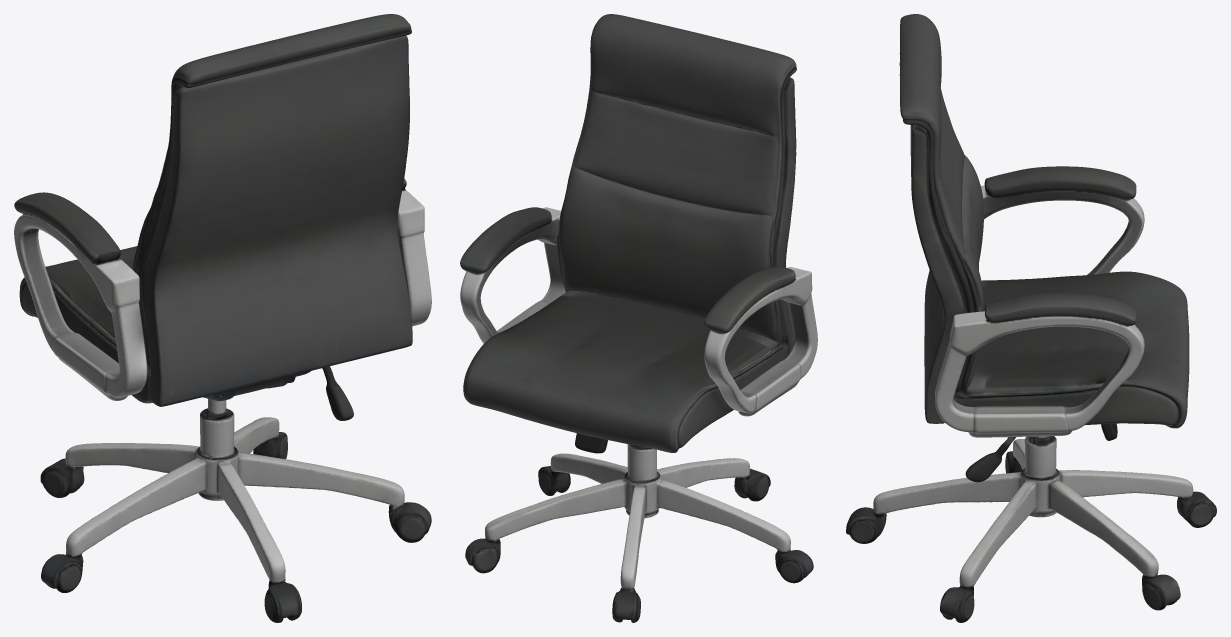
The model's file is modern_office_chair_padded_28.glb.
The picture shows the model from 3 angles, left to right: view 1: azimuth 30°, elevation 25°; view 2: azimuth 150°, elevation 25°; view 3: azimuth 270°, elevation 25°; orthographic projection. The views are drawn at different scales.
Parts seen in each view (by area): view 1: tripo_node_9673e271-81b5-4707-9eda-ee34c4ddf5fa; view 2: tripo_node_9673e271-81b5-4707-9eda-ee34c4ddf5fa; view 3: tripo_node_9673e271-81b5-4707-9eda-ee34c4ddf5fa.
Part boxes in pixels (<box>): tripo_node_9673e271-81b5-4707-9eda-ee34c4ddf5fa: <box>14,14,431,622</box>; tripo_node_9673e271-81b5-4707-9eda-ee34c4ddf5fa: <box>460,14,817,622</box>; tripo_node_9673e271-81b5-4707-9eda-ee34c4ddf5fa: <box>846,14,1216,622</box>.
Bounding box in the file's own units: 0.6653 × 1 × 0.6719.
Materials: 1 (1 with a texture image).
